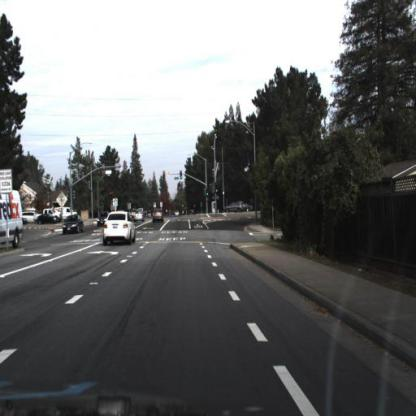car: (104, 208, 139, 243), (61, 214, 87, 237), (64, 214, 83, 235), (223, 200, 246, 216), (60, 204, 77, 224), (96, 206, 110, 230), (150, 206, 166, 227), (41, 204, 60, 218), (25, 211, 44, 224), (132, 209, 146, 225), (153, 209, 163, 225), (244, 202, 257, 214)
trafficLight-Green: (178, 170, 186, 183), (204, 187, 210, 201), (215, 185, 221, 198)
trafficLight-Red: (162, 165, 168, 181)
truck: (1, 189, 25, 251), (59, 206, 79, 224)
